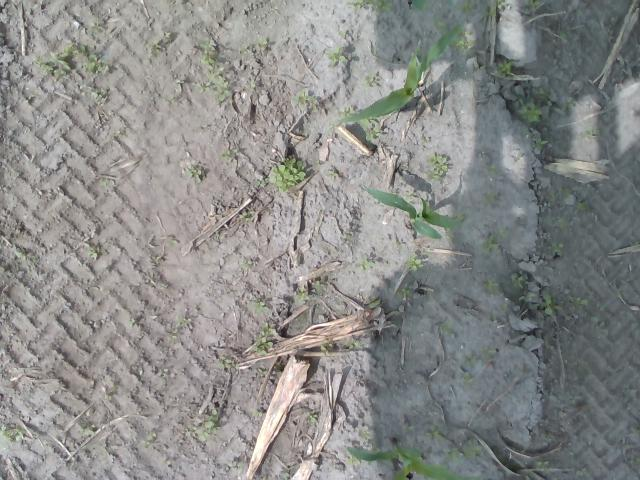Maize: (336, 19, 465, 132), (359, 180, 463, 242), (344, 436, 486, 480)
Weeds: (32, 41, 110, 78), (195, 36, 231, 104), (545, 184, 592, 214), (517, 85, 551, 125), (270, 158, 306, 192), (192, 409, 222, 442), (144, 30, 174, 59), (444, 439, 482, 461), (524, 292, 556, 318), (252, 320, 276, 352), (480, 229, 508, 256), (344, 0, 396, 14), (292, 90, 322, 112), (426, 153, 449, 181), (0, 424, 28, 444), (78, 81, 105, 101), (180, 164, 203, 185), (240, 38, 270, 54), (136, 428, 156, 450), (457, 31, 477, 53), (324, 44, 346, 64), (486, 0, 512, 16), (14, 246, 38, 263), (404, 254, 424, 272), (424, 424, 442, 442), (576, 296, 594, 314), (496, 59, 514, 77), (357, 256, 377, 272), (482, 275, 499, 293), (530, 137, 551, 151), (510, 271, 526, 289), (456, 0, 478, 13), (364, 128, 382, 143), (482, 164, 498, 180), (216, 354, 231, 371), (77, 425, 96, 437), (562, 96, 578, 110), (398, 286, 414, 300), (432, 18, 448, 32), (160, 95, 178, 107), (547, 242, 562, 256), (525, 0, 542, 12), (238, 258, 255, 270), (438, 320, 452, 334), (344, 338, 361, 349), (535, 460, 548, 474), (478, 346, 491, 360), (481, 190, 494, 204), (219, 148, 233, 161), (254, 176, 268, 189), (364, 76, 379, 88), (340, 105, 356, 116), (239, 210, 255, 221), (558, 30, 570, 44), (252, 300, 266, 312), (165, 330, 178, 342), (346, 457, 360, 468), (464, 353, 474, 366), (100, 178, 111, 189), (462, 372, 472, 384), (296, 288, 306, 300), (584, 127, 594, 139), (248, 78, 257, 91), (307, 414, 319, 423), (127, 318, 136, 329), (500, 302, 508, 314), (631, 456, 640, 466), (362, 430, 372, 439), (327, 169, 337, 178), (315, 280, 322, 292), (88, 248, 97, 257), (254, 410, 264, 418), (102, 394, 112, 402), (152, 256, 160, 266), (258, 367, 266, 377), (282, 472, 289, 480)
